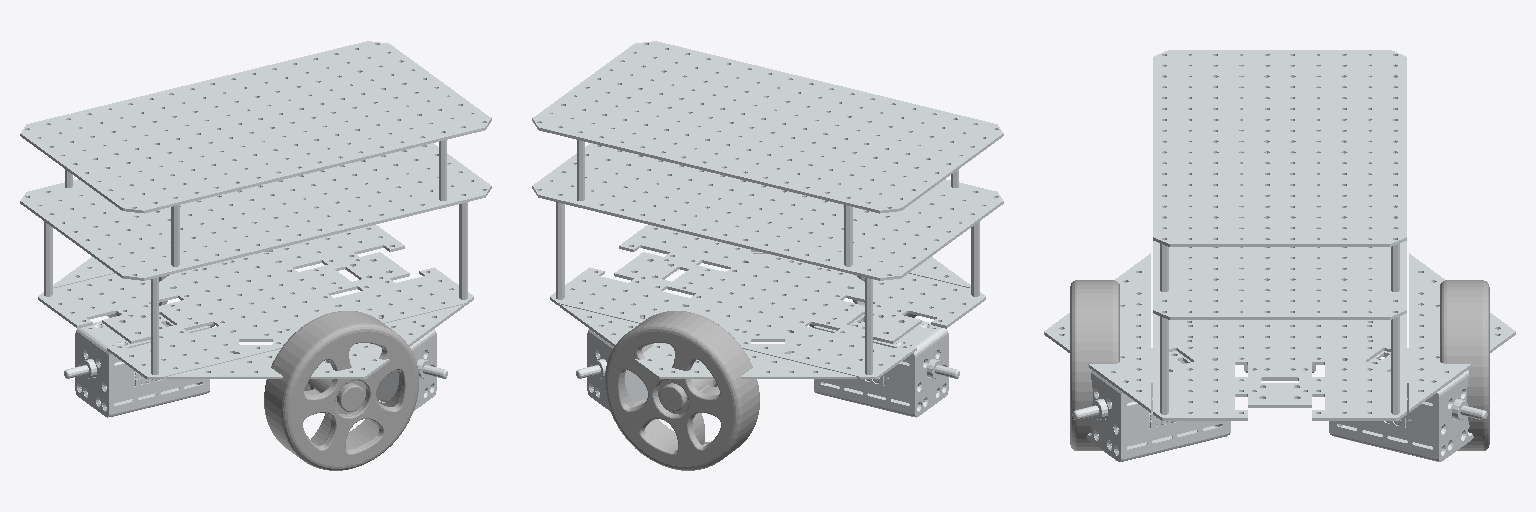
The robot description file, URDF, robot "zoo_two_wheel_diff":
<?xml version="1.0" encoding="utf-8"?>
<!-- This URDF was automatically created by SolidWorks to URDF Exporter! Originally created by [author] ([email redacted]) 
     Commit Version: 1.6.0-4-g7f85cfe  Build Version: 1.6.7995.38578
     For more information, please see http://wiki.ros.org/sw_urdf_exporter -->
<robot
  name="zoo_two_wheel_diff">
  <link name="dummy">

  </link>
  <joint name="dummy_joint" type="fixed">
     <parent link="dummy"/>
     <child link="base_link"/>
   </joint>
  <link
    name="base_link">
    <inertial>
      <origin
        xyz="-0.0017685 0.00071423 0.040342"
        rpy="0 0 0" />
      <mass
        value="2.1268" />
      <inertia
        ixx="0.017378"
        ixy="0.00011307"
        ixz="0.0021559"
        iyy="0.021668"
        iyz="-3.6876E-05"
        izz="0.023374" />
    </inertial>
    <visual>
      <origin
        xyz="0 0 0"
        rpy="0 0 0" />
      <geometry>
        <mesh
          filename="package://zoo_description/meshes/zoo_two_wheel_diff/base_link.STL" />
      </geometry>
      <material
        name="">
        <color
          rgba="0.89804 0.91765 0.92941 1" />
      </material>
    </visual>
    <collision>
      <origin
        xyz="0 0 0"
        rpy="0 0 0" />
      <geometry>
        <mesh
          filename="package://zoo_description/meshes/zoo_two_wheel_diff/base_link.STL" />
      </geometry>
    </collision>
  </link>
  <link
    name="wheel_L_link">
    <inertial>
      <origin
        xyz="-3.7877E-07 -0.013414 4.8127E-07"
        rpy="0 0 0" />
      <mass
        value="0.33784" />
      <inertia
        ixx="0.00027827"
        ixy="1.2914E-09"
        ixz="1.097E-09"
        iyy="0.00049641"
        iyz="-1.6416E-09"
        izz="0.00027827" />
    </inertial>
    <visual>
      <origin
        xyz="0 0 0"
        rpy="0 0 0" />
      <geometry>
        <mesh
          filename="package://zoo_description/meshes/zoo_two_wheel_diff/wheel_L_link.STL" />
      </geometry>
      <material
        name="">
        <color
          rgba="0.75294 0.75294 0.75294 1" />
      </material>
    </visual>
    <collision>
      <origin
        xyz="0 0 0"
        rpy="0 0 0" />
      <geometry>
        <mesh
          filename="package://zoo_description/meshes/zoo_two_wheel_diff/wheel_L_link.STL" />
      </geometry>
    </collision>
  </link>
  <joint
    name="wheel_L_joint"
    type="continuous">
    <origin
      xyz="0 0.1215 -0.02"
      rpy="0 0 0" />
    <parent
      link="base_link" />
    <child
      link="wheel_L_link" />
    <axis
      xyz="0 -1 0" />
  </joint>
  <link
    name="wheel_R_link">
    <inertial>
      <origin
        xyz="-5.5458E-07 0.013414 2.5987E-07"
        rpy="0 0 0" />
      <mass
        value="0.33784" />
      <inertia
        ixx="0.00027827"
        ixy="-1.8915E-09"
        ixz="1.1877E-09"
        iyy="0.00049641"
        iyz="8.8583E-10"
        izz="0.00027827" />
    </inertial>
    <visual>
      <origin
        xyz="0 0 0"
        rpy="0 0 0" />
      <geometry>
        <mesh
          filename="package://zoo_description/meshes/zoo_two_wheel_diff/wheel_R_link.STL" />
      </geometry>
      <material
        name="">
        <color
          rgba="0.75294 0.75294 0.75294 1" />
      </material>
    </visual>
    <collision>
      <origin
        xyz="0 0 0"
        rpy="0 0 0" />
      <geometry>
        <mesh
          filename="package://zoo_description/meshes/zoo_two_wheel_diff/wheel_R_link.STL" />
      </geometry>
    </collision>
  </link>
  <joint
    name="wheel_R_joint"
    type="continuous">
    <origin
      xyz="0 -0.1215 -0.02"
      rpy="0 0 0" />
    <parent
      link="base_link" />
    <child
      link="wheel_R_link" />
    <axis
      xyz="0 -1 0" />
  </joint>
</robot>

--- What the picture shows (computed from the rendered views, not written in the file) ---
Views: 3 orthographic renders of the robot side by side, from view 1: azimuth 30°, elevation 25°; view 2: azimuth 150°, elevation 25°; view 3: azimuth 270°, elevation 25°.
Model zoo_two_wheel_diff with 4 links and 3 joints (2 continuous, 1 fixed), rooted at dummy, posed all joints at 0.
Links seen in each view (by area): view 1: base_link, wheel_R_link; view 2: base_link, wheel_L_link; view 3: base_link, wheel_R_link, wheel_L_link.
Link boxes in pixels (x1,y1,x2,y2): base_link: (20, 41, 491, 417); wheel_R_link: (264, 311, 418, 470); base_link: (532, 41, 1003, 417); wheel_L_link: (605, 311, 759, 470); base_link: (1044, 50, 1515, 461); wheel_R_link: (1070, 280, 1119, 450); wheel_L_link: (1440, 280, 1489, 450).
Size in the robot's own frame: 0.2735 by 0.2753 by 0.191 metres.
Meshes: 3 distinct files referenced, 3 mesh visuals loaded (3 binary STL).